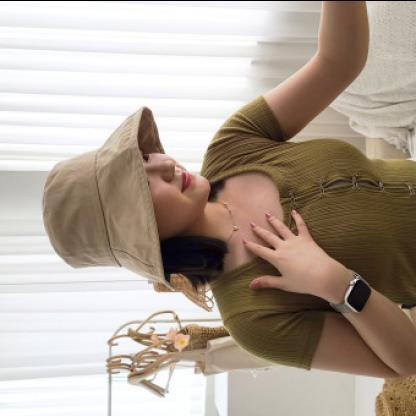hat: (38, 102, 174, 286)
